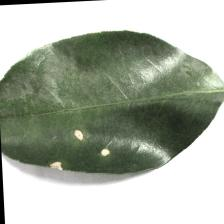canker: (43, 121, 124, 172)
